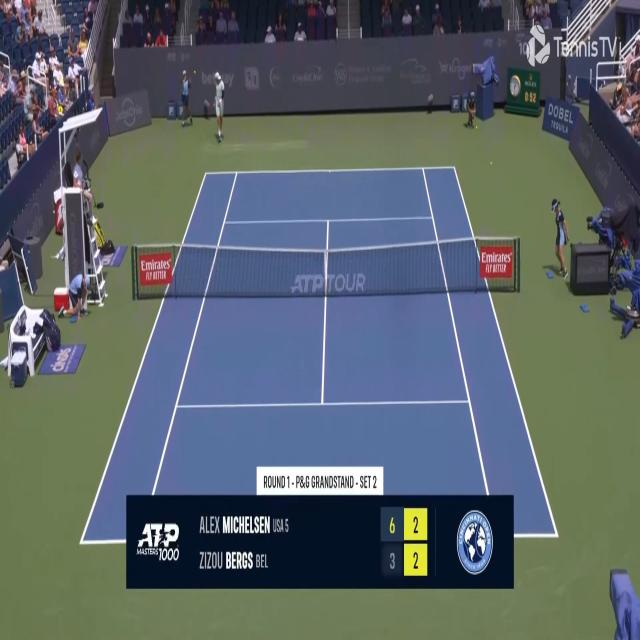tennis-player: (209, 68, 226, 144)
